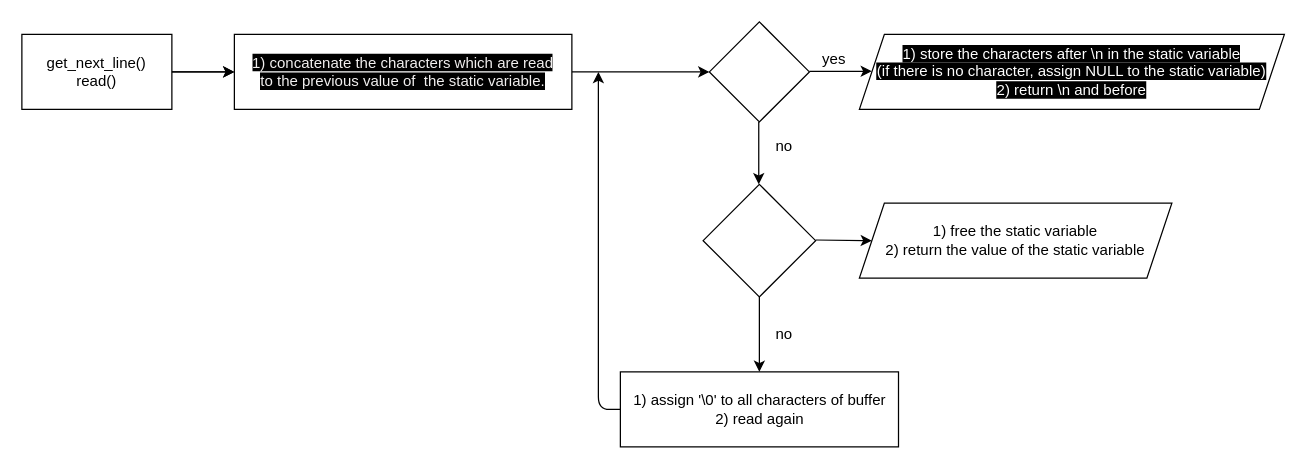
Image size: 1306x469. Some labels were removed from this diagram. The box of each missing label's shape, as (x1, y1, x2, y2) in pixels:
if \n: (708, 21, 809, 122)
if end of file: (702, 183, 816, 297)
